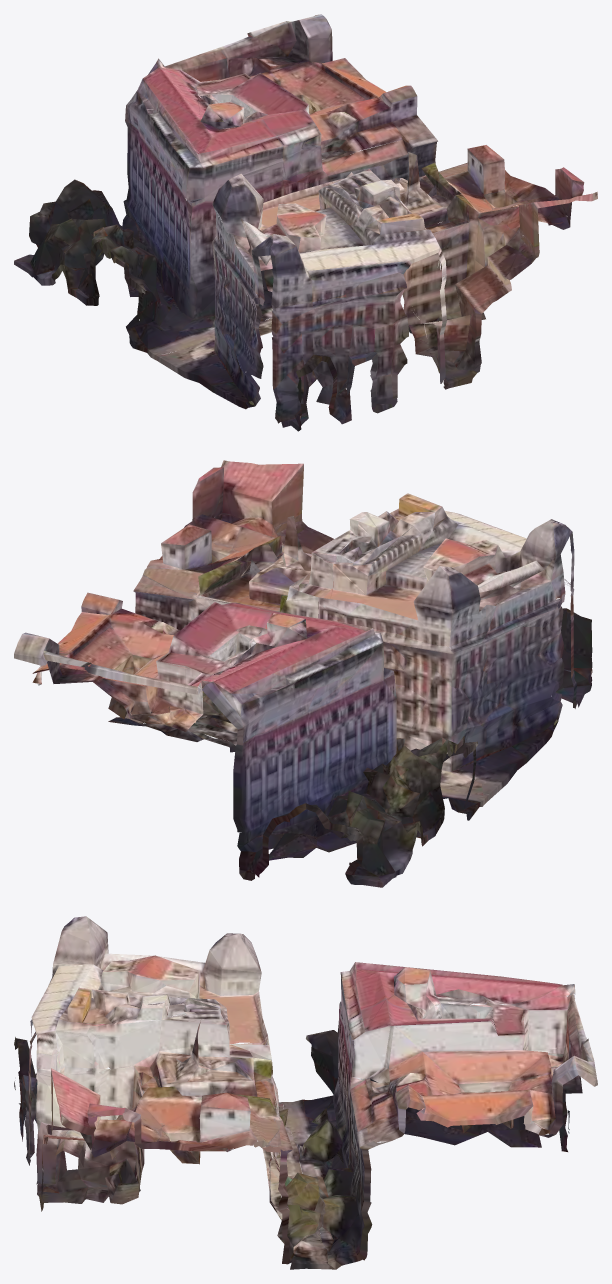
3 renders of one model, top to bottom at view 1: azimuth 30°, elevation 25°; view 2: azimuth 150°, elevation 25°; view 3: azimuth 270°, elevation 25°, orthographic. The views are drawn at different scales.
Parts seen in each view (by area): view 1: Mesh_0; view 2: Mesh_0; view 3: Mesh_0.
Boxes of the visible parts, x1,y1,x2,y2 form: Mesh_0: (14,14,597,431); Mesh_0: (14,460,592,887); Mesh_0: (14,916,597,1269).
Bounding box in the file's own units: 66.55 × 32.78 × 82.59.
Materials: 1 (1 with a texture image).
